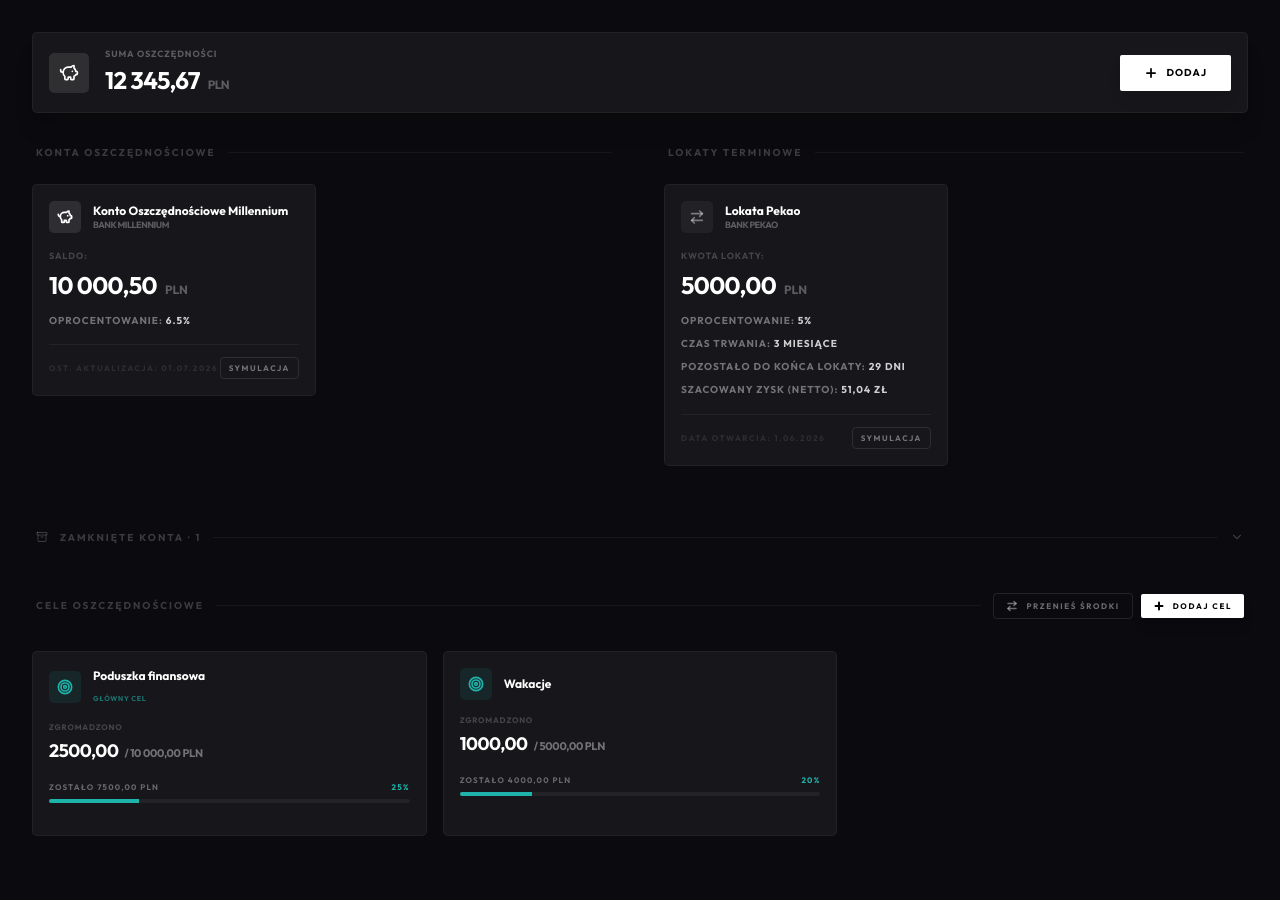
Test case: Savings Page › waliduje transfer po stronie UI — brak pól = toast, zero wywołań API
The width and height of the screenshot is (1280, 900).
Expected: the heading "Poduszka finansowa" is shown, [93, 668, 205, 683]
Click the button "Przenieś środki".
click(1063, 606)  # box [994, 593, 1133, 619]
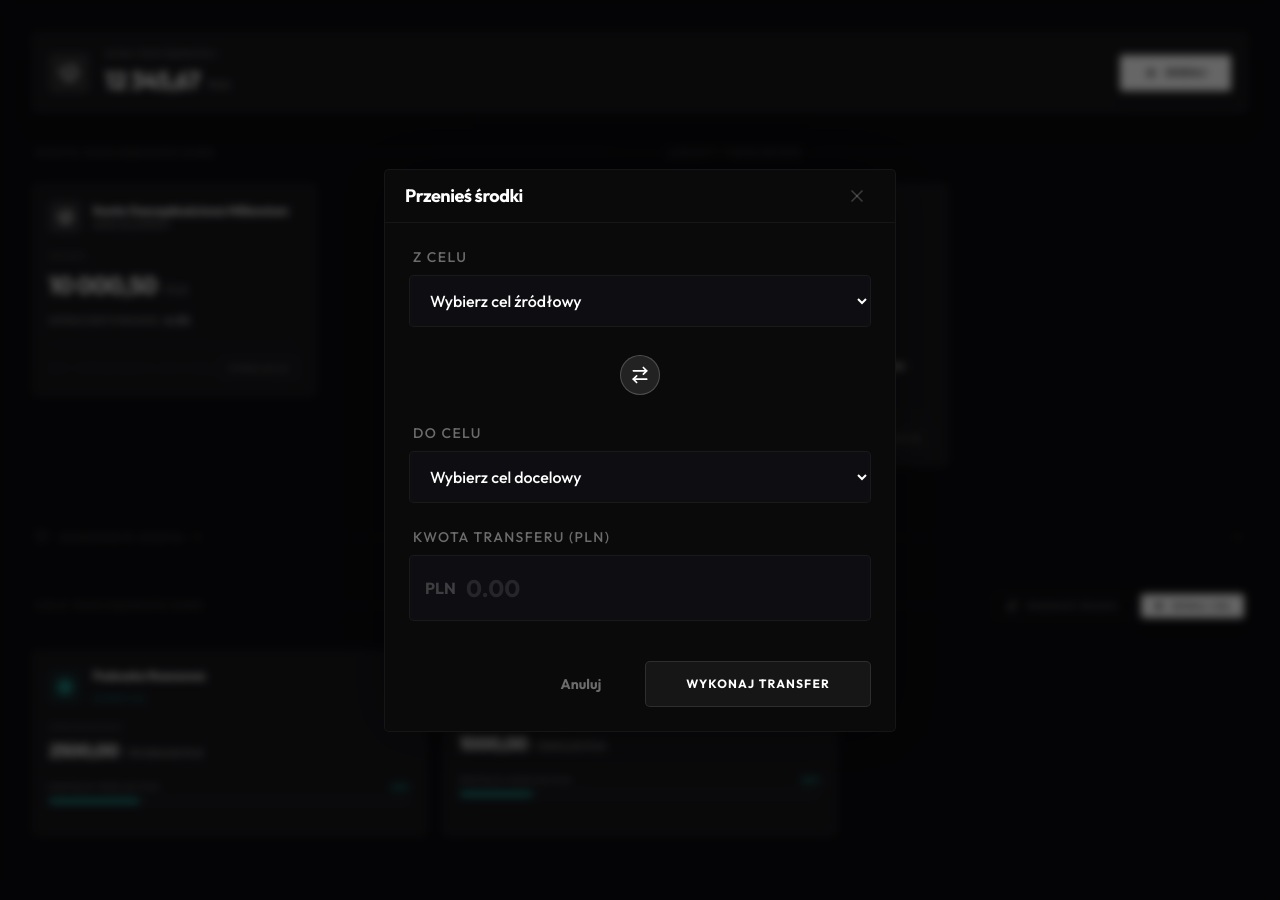
Click the button "Wykonaj transfer".
click(758, 684)  # box [645, 660, 871, 706]
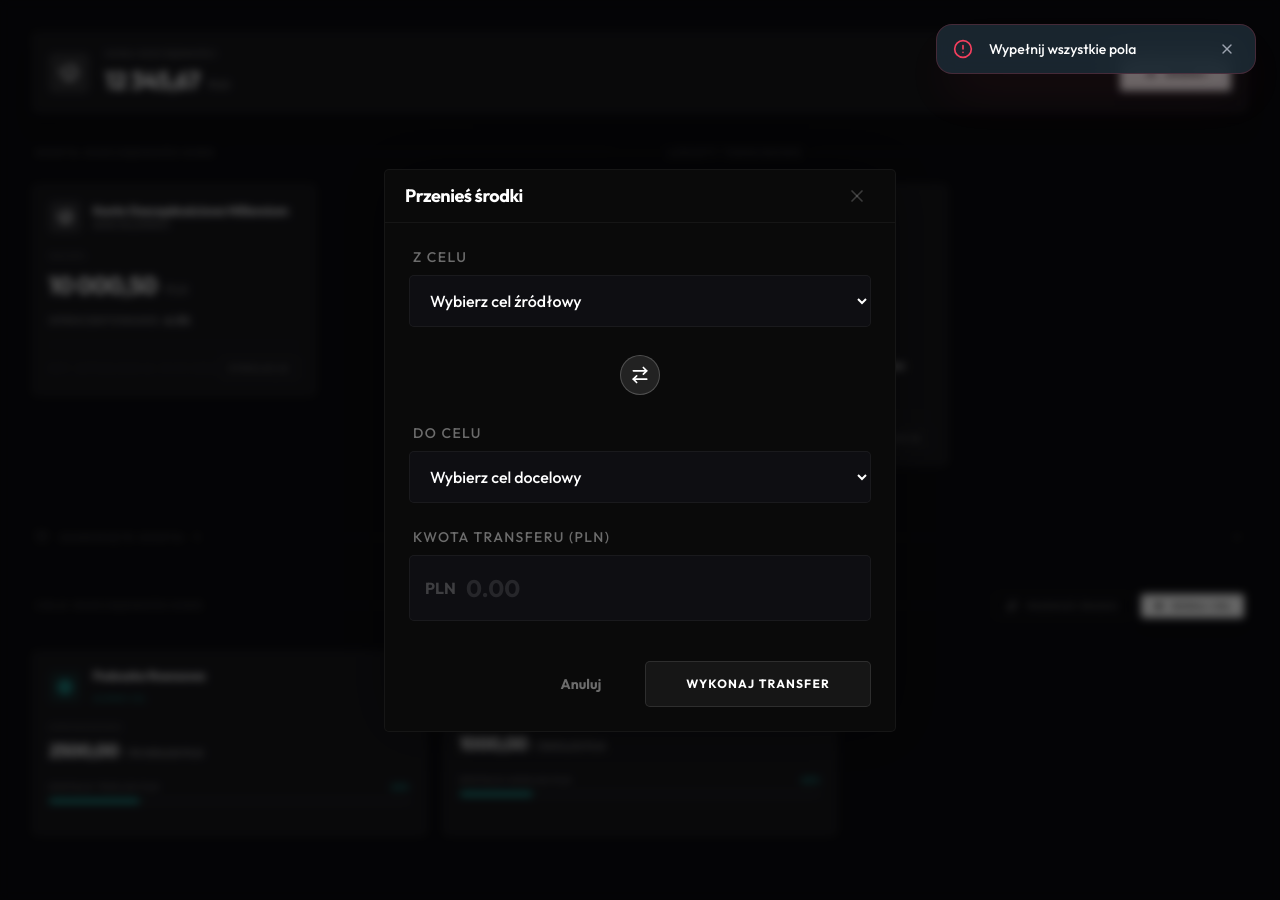
Now the text "Wypełnij wszystkie pola" is shown, box [989, 40, 1136, 58]
